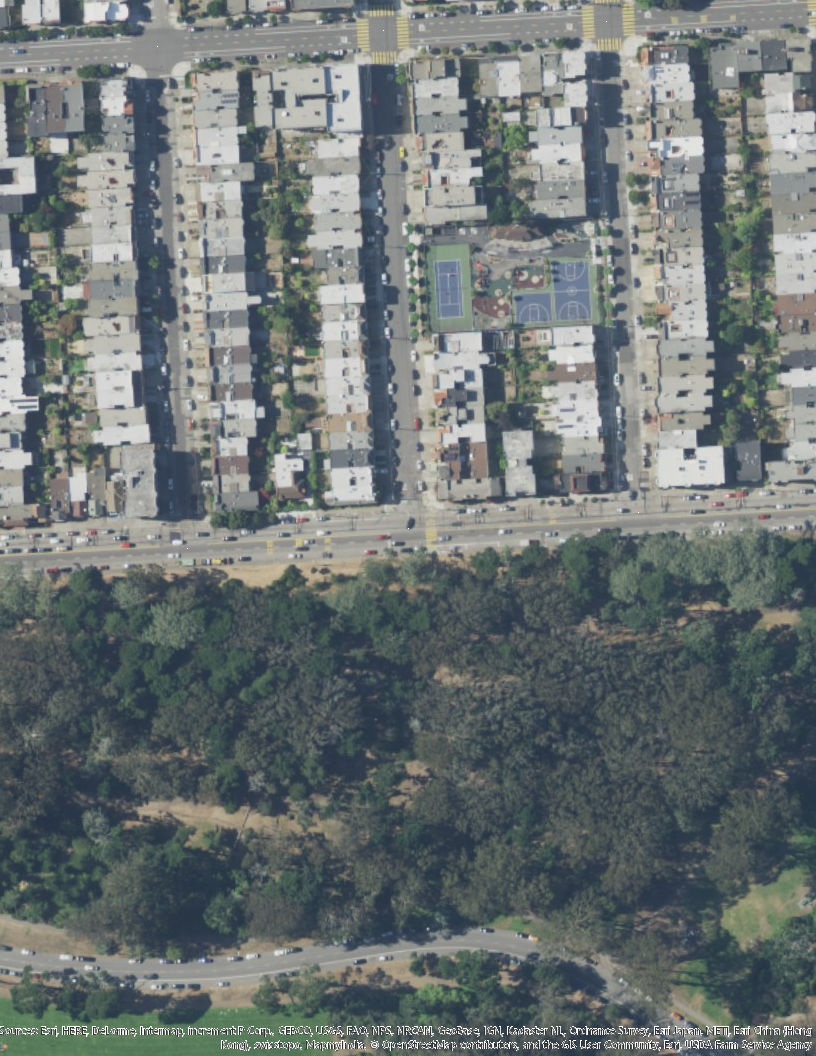zebracross: (622, 3, 637, 37), (356, 19, 371, 51), (397, 18, 411, 51), (582, 4, 595, 39), (369, 3, 398, 18), (373, 51, 398, 65), (597, 37, 622, 51)
